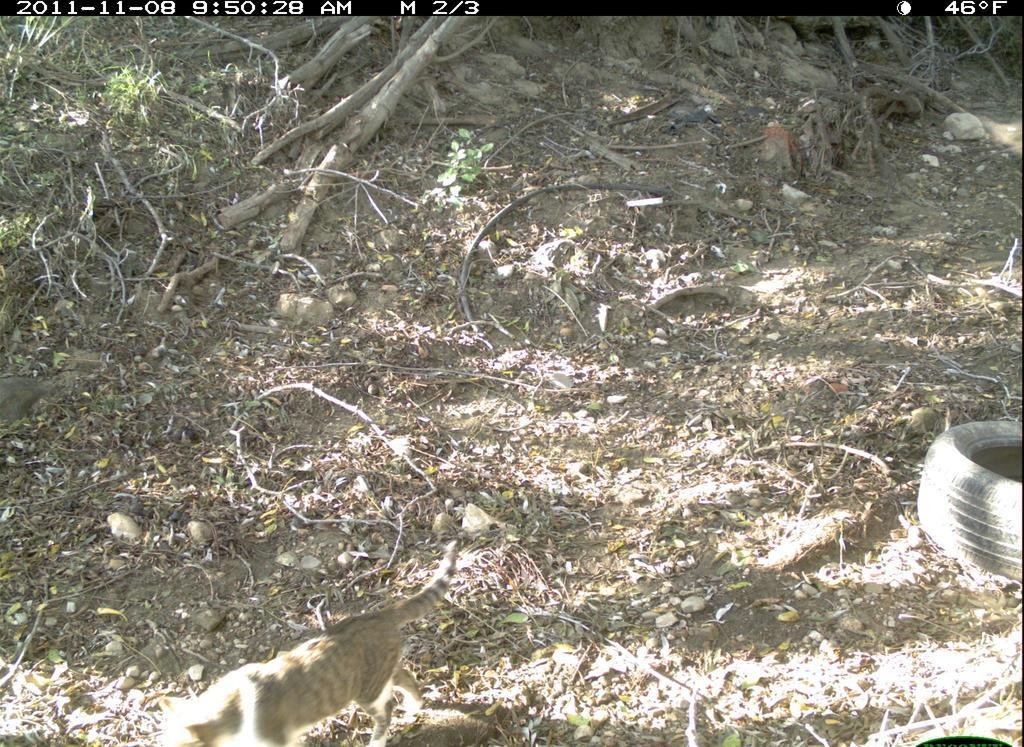cat: (137, 532, 474, 745)
